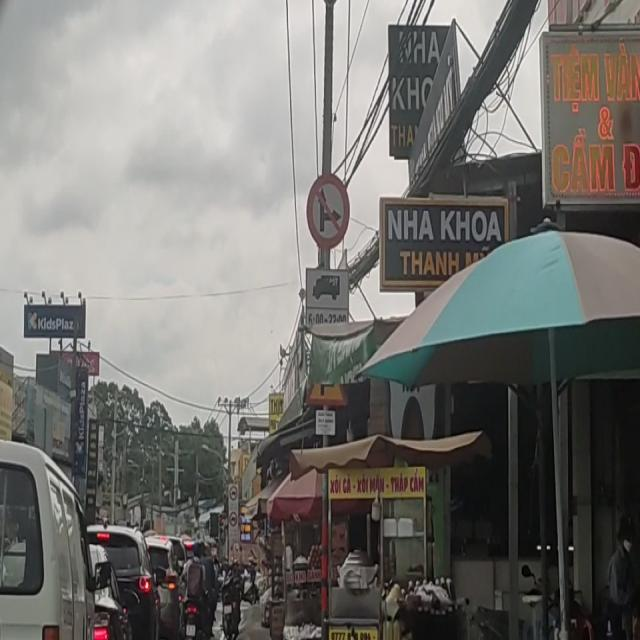Car: (0, 440, 112, 640), (87, 525, 158, 640), (145, 536, 181, 640), (91, 545, 128, 640), (165, 538, 190, 564)
Motorcycle: (520, 564, 592, 640)
Motorcyclist: (181, 542, 209, 640), (221, 564, 243, 640), (206, 551, 220, 635), (243, 563, 260, 606)
Pedestrian: (605, 515, 637, 640)
Sign: (307, 173, 350, 251), (306, 267, 349, 308), (309, 383, 348, 407), (306, 308, 348, 326), (315, 411, 336, 435), (229, 484, 239, 503), (229, 514, 239, 533)
Traffic light: (211, 514, 221, 536)
